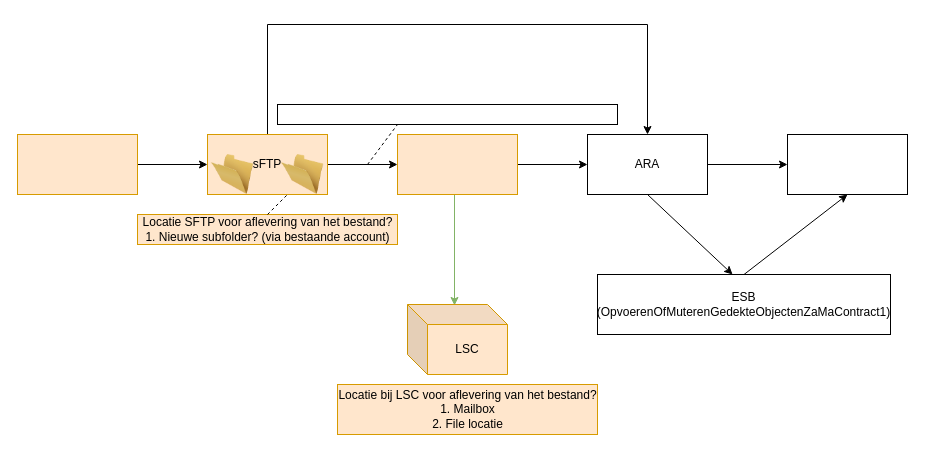
Image size: 925x452. Some labels were removed from this diagram. The shapes that lost their labels are listed below. From the top down, each one's centre as x and y in pixels, then its label:
the point at 447,114: pollt nieuwe subfolder en zet het bestand 1 op 1 door naar LSC
the point at 77,164: Leaseplan
the point at 457,164: Zama Datacenter
the point at 847,164: Zama XL
